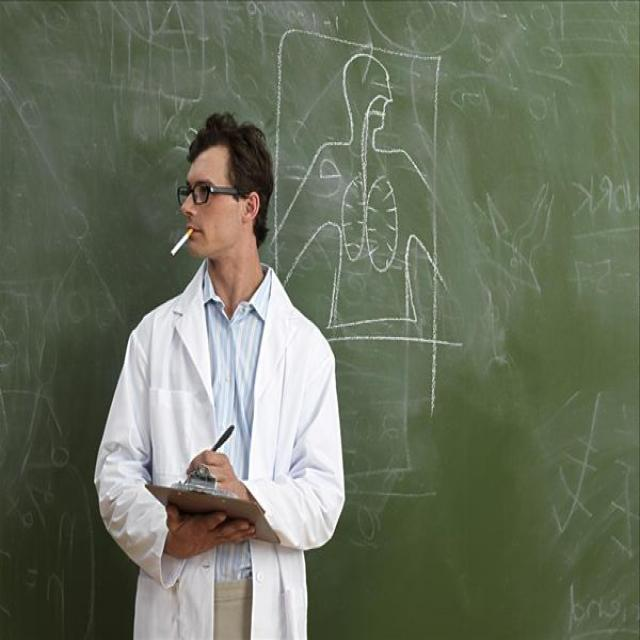smoking: (166, 224, 196, 260)
